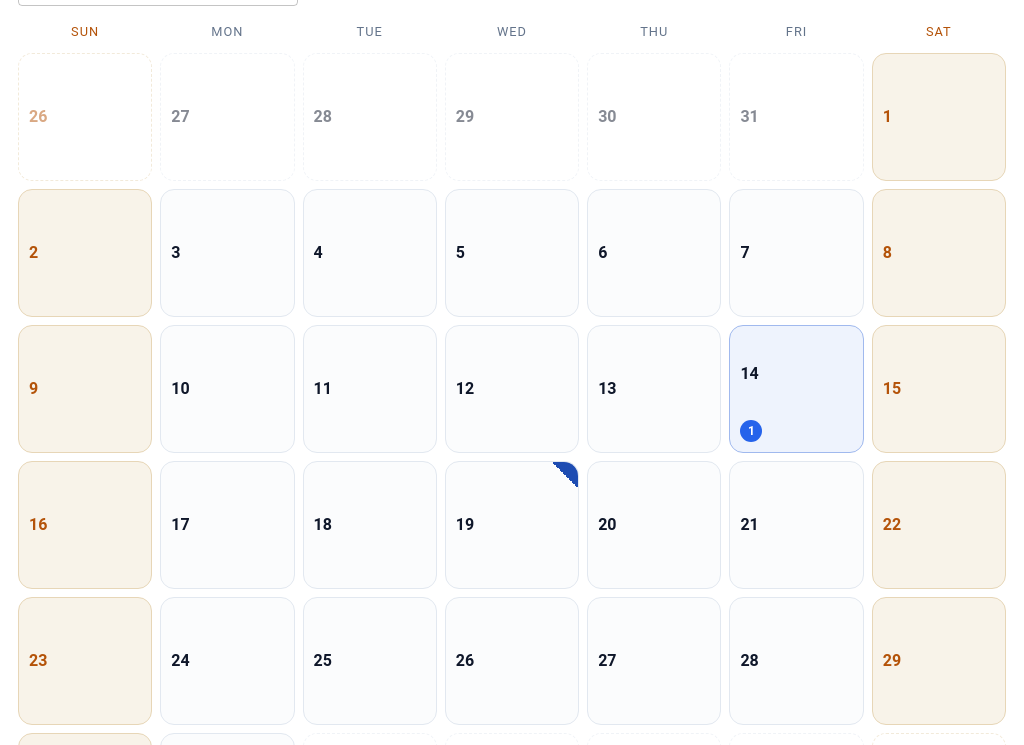
Test: component-level coverage › warns about an overlapping class without blocking the booking
(page scrolled)
Step 1. Click the button "14" → (797, 374), box [740, 336, 853, 412]
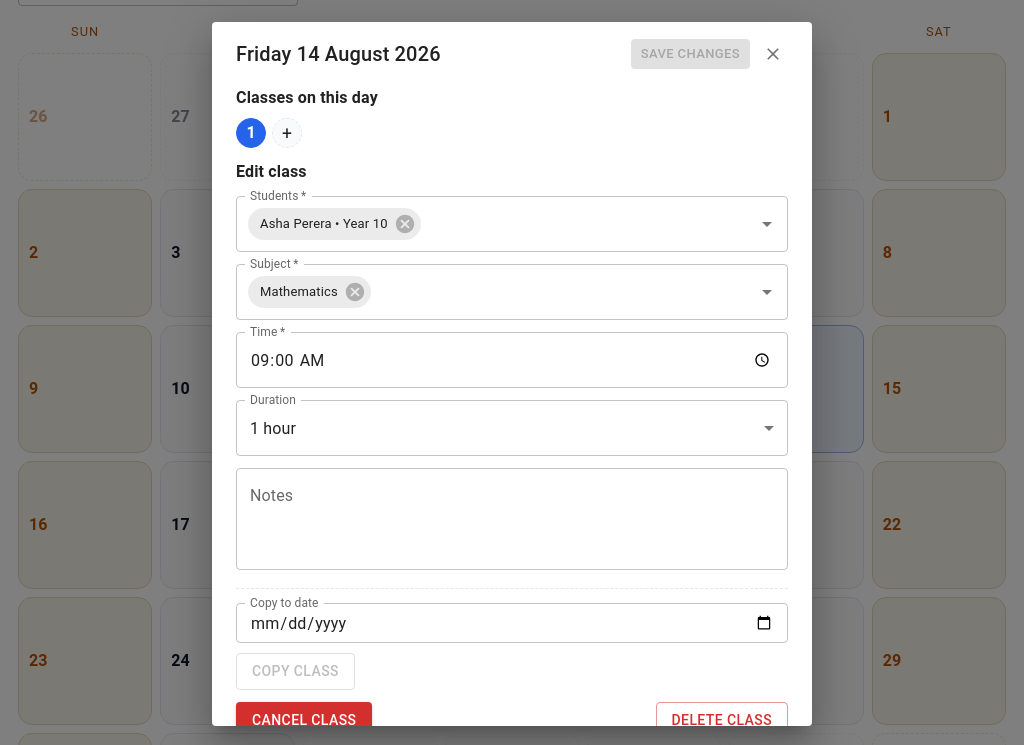
expect the text "overlaps" is not shown: met
// A second class for the same student, half-way through the first.
Step 2. Click the tab named "add a class" → (287, 133), box [272, 118, 302, 148]
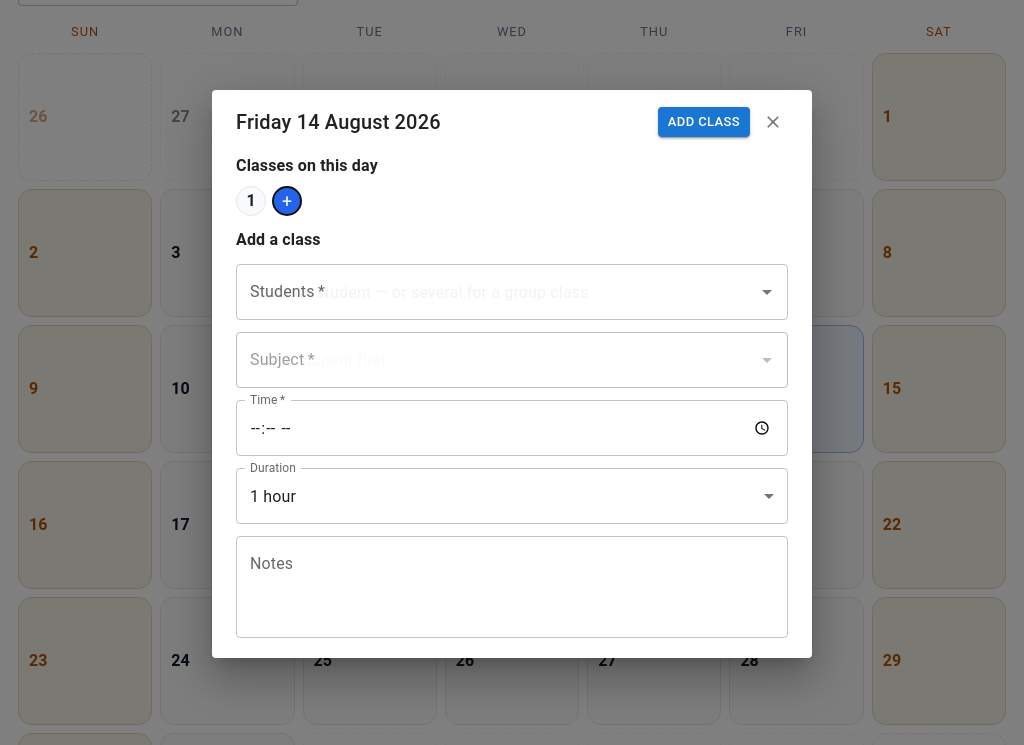
Step 3. Type "Asha" into the dropdown labelled "Students *" → (497, 292), box [245, 273, 749, 311]
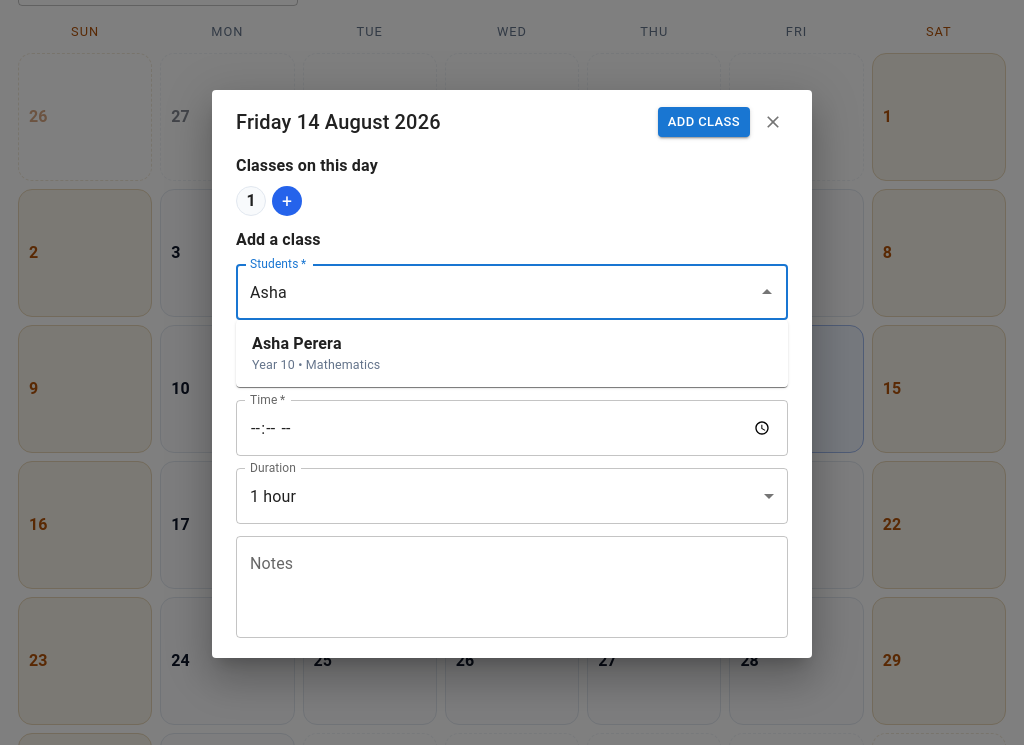
Step 4. Click the option "Asha Perera Year 10 • Mathematics" → (316, 353), box [252, 334, 380, 372]
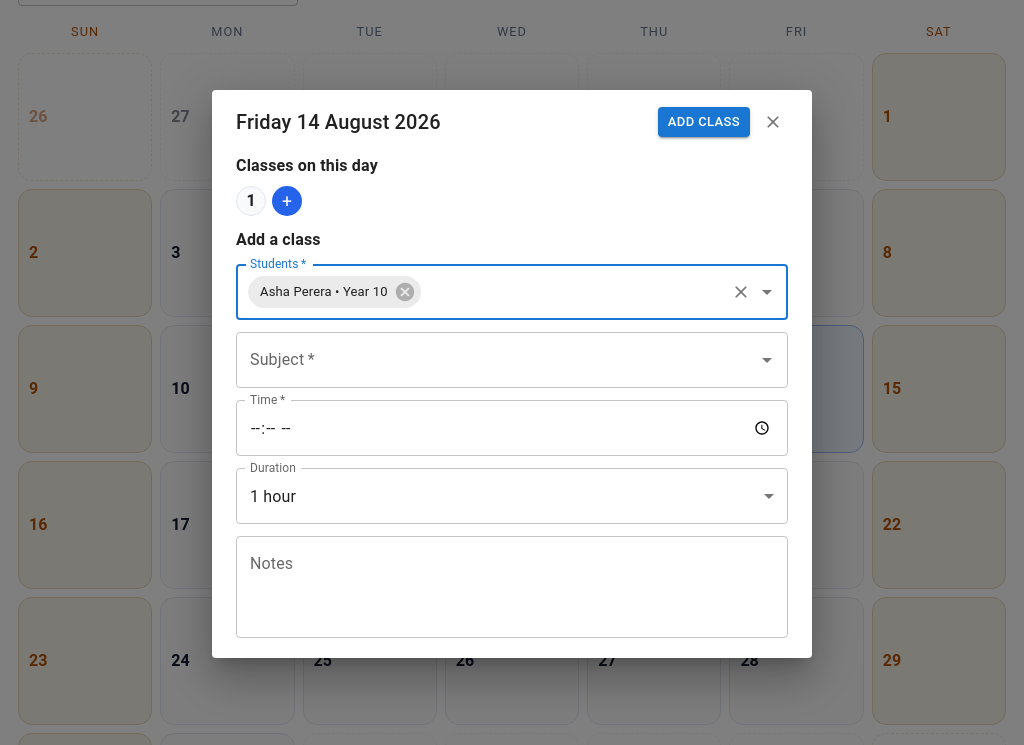
Step 5. Type "09:30" into the time field labelled "Time *" → (512, 428), box [236, 400, 788, 456]
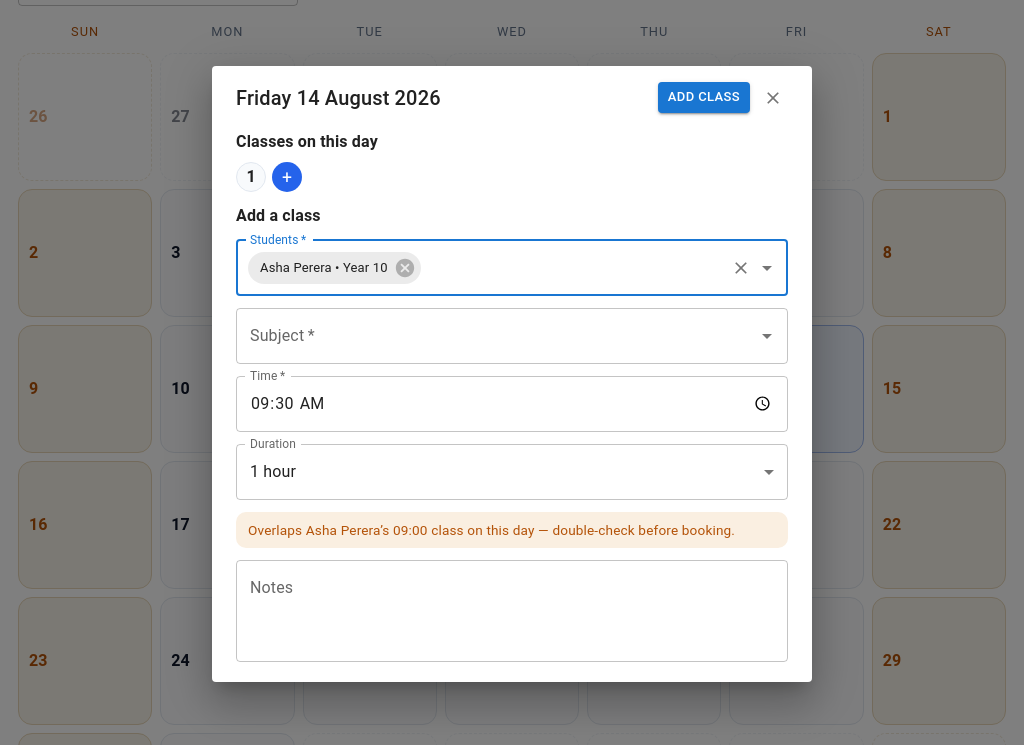
expect the button "Add class" is enabled: met, box [658, 82, 750, 113]
expect the text "Overlaps Asha Perera’s 09:00 class on this day — double-check before booking." is shown: met, box [236, 512, 788, 548]
// Clear of the slot, the warning goes.
Step 6. Replace the text in the time field labelled "Time *" with "11:00" → (512, 404), box [236, 376, 788, 432]
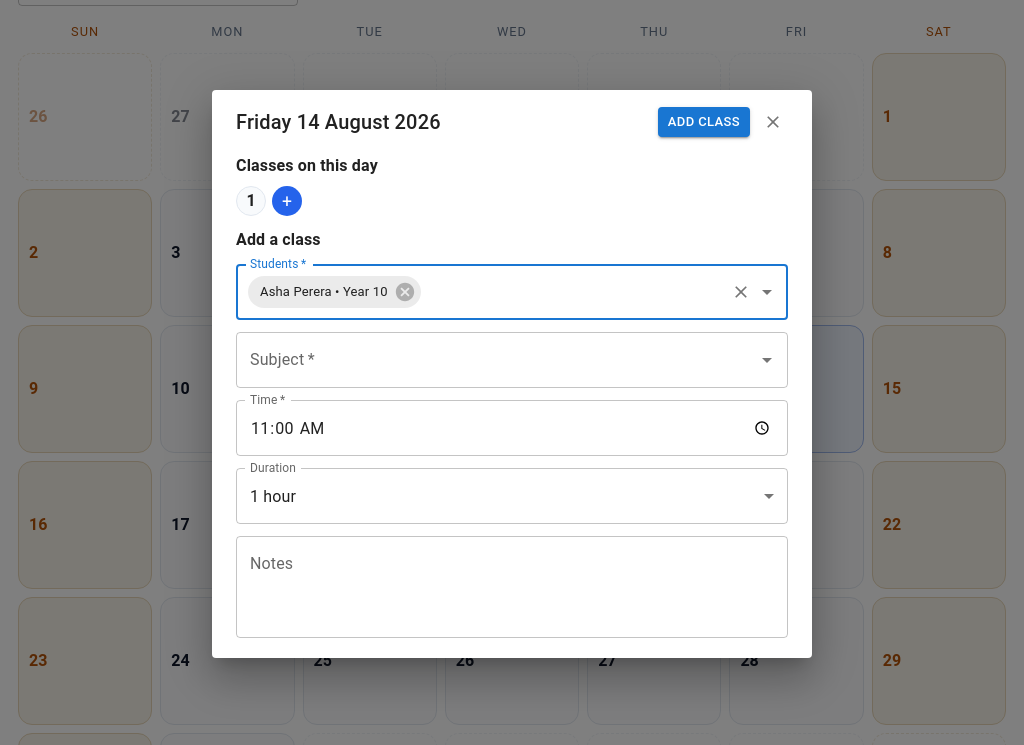
expect the text "Overlaps" is gone: met
